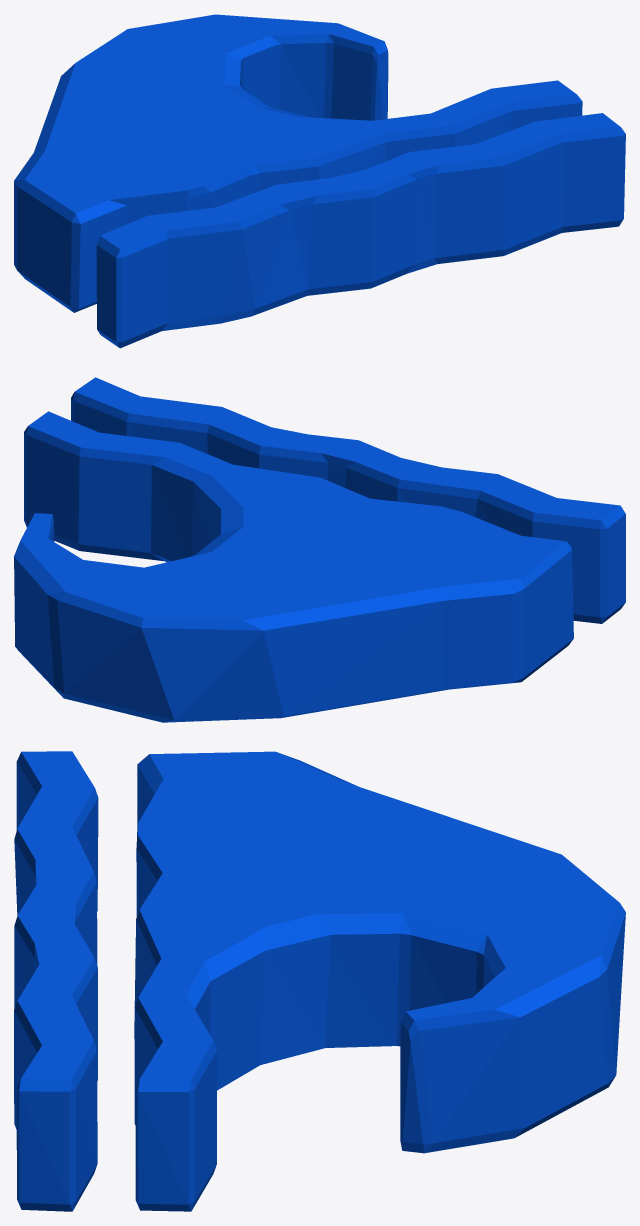
Rendered from Wasser_simple_lp.fbx.
3 renders of one model, top to bottom at view 1: azimuth 30°, elevation 25°; view 2: azimuth 150°, elevation 25°; view 3: azimuth 270°, elevation 25°, orthographic. The views are drawn at different scales.
Parts seen in each view (by area): view 1: path347; view 2: path347; view 3: path347.
Part boxes in pixels (x1=…): path347: x1=14, y1=14, x2=625, y2=348; path347: x1=14, y1=377, x2=625, y2=722; path347: x1=14, y1=751, x2=625, y2=1211.
Size of the model in its own units: 8.11 by 1.5 by 6.28.
